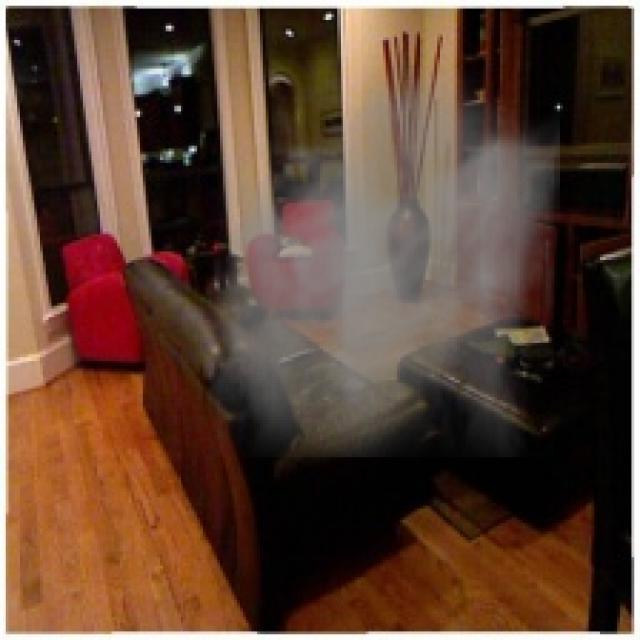Smoke: (208, 54, 560, 457)
